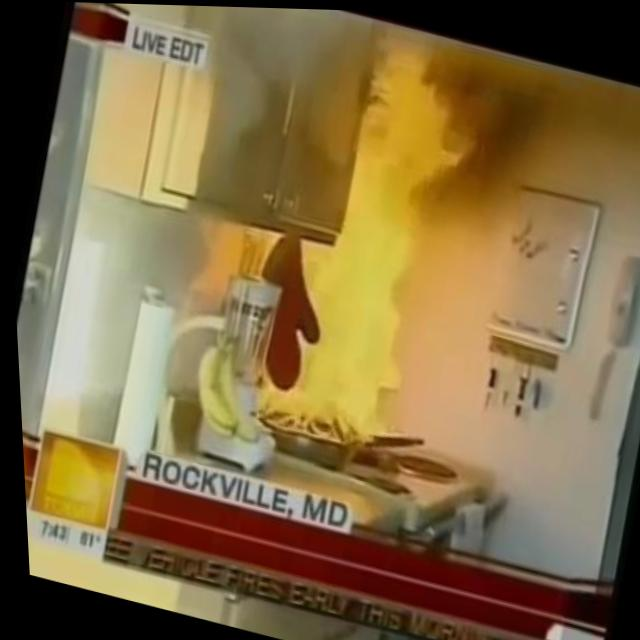fire: (247, 155, 443, 460)
